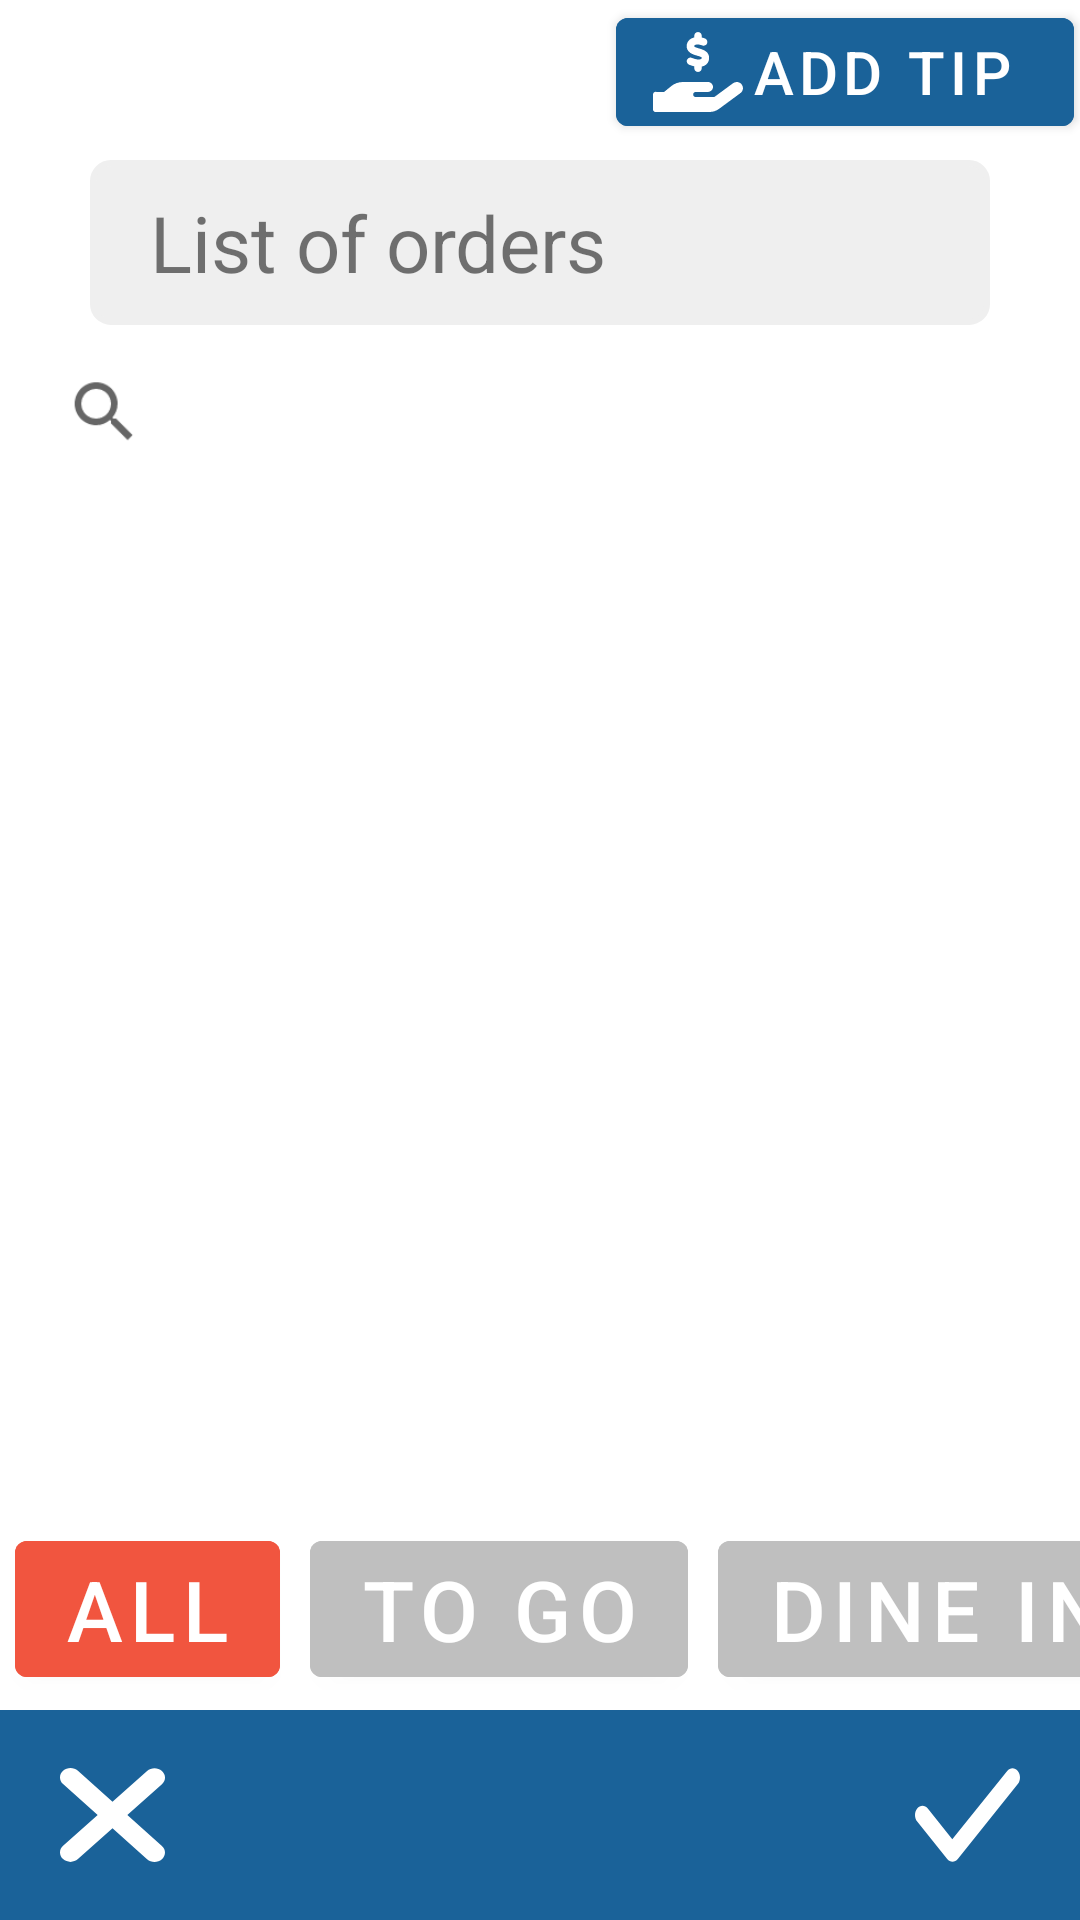

Icons on this 1080*1920 Android screen, each with the point to tap as point (x, y):
check: point (967, 1815)
hand holding dollar: point (698, 72)
